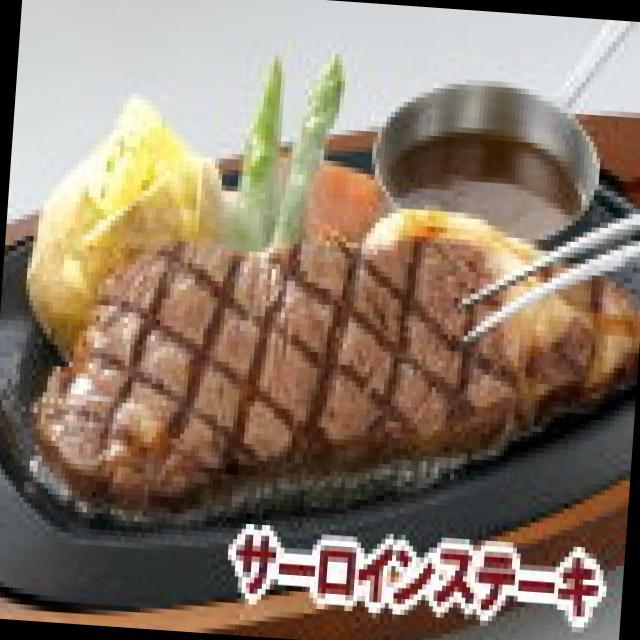Beef Steak: (32, 237, 558, 509)
